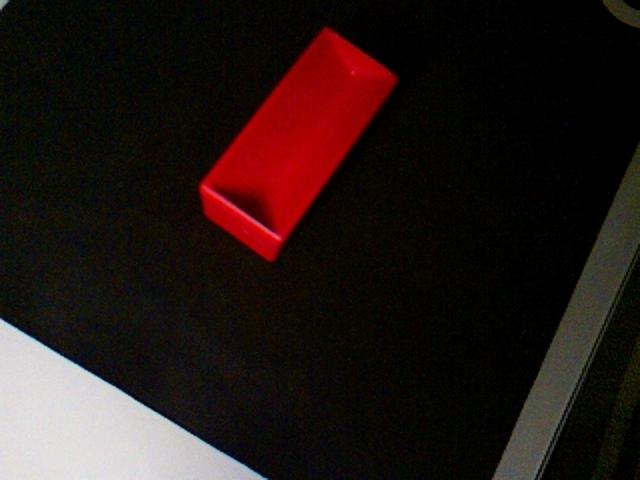red: (197, 25, 400, 264)
